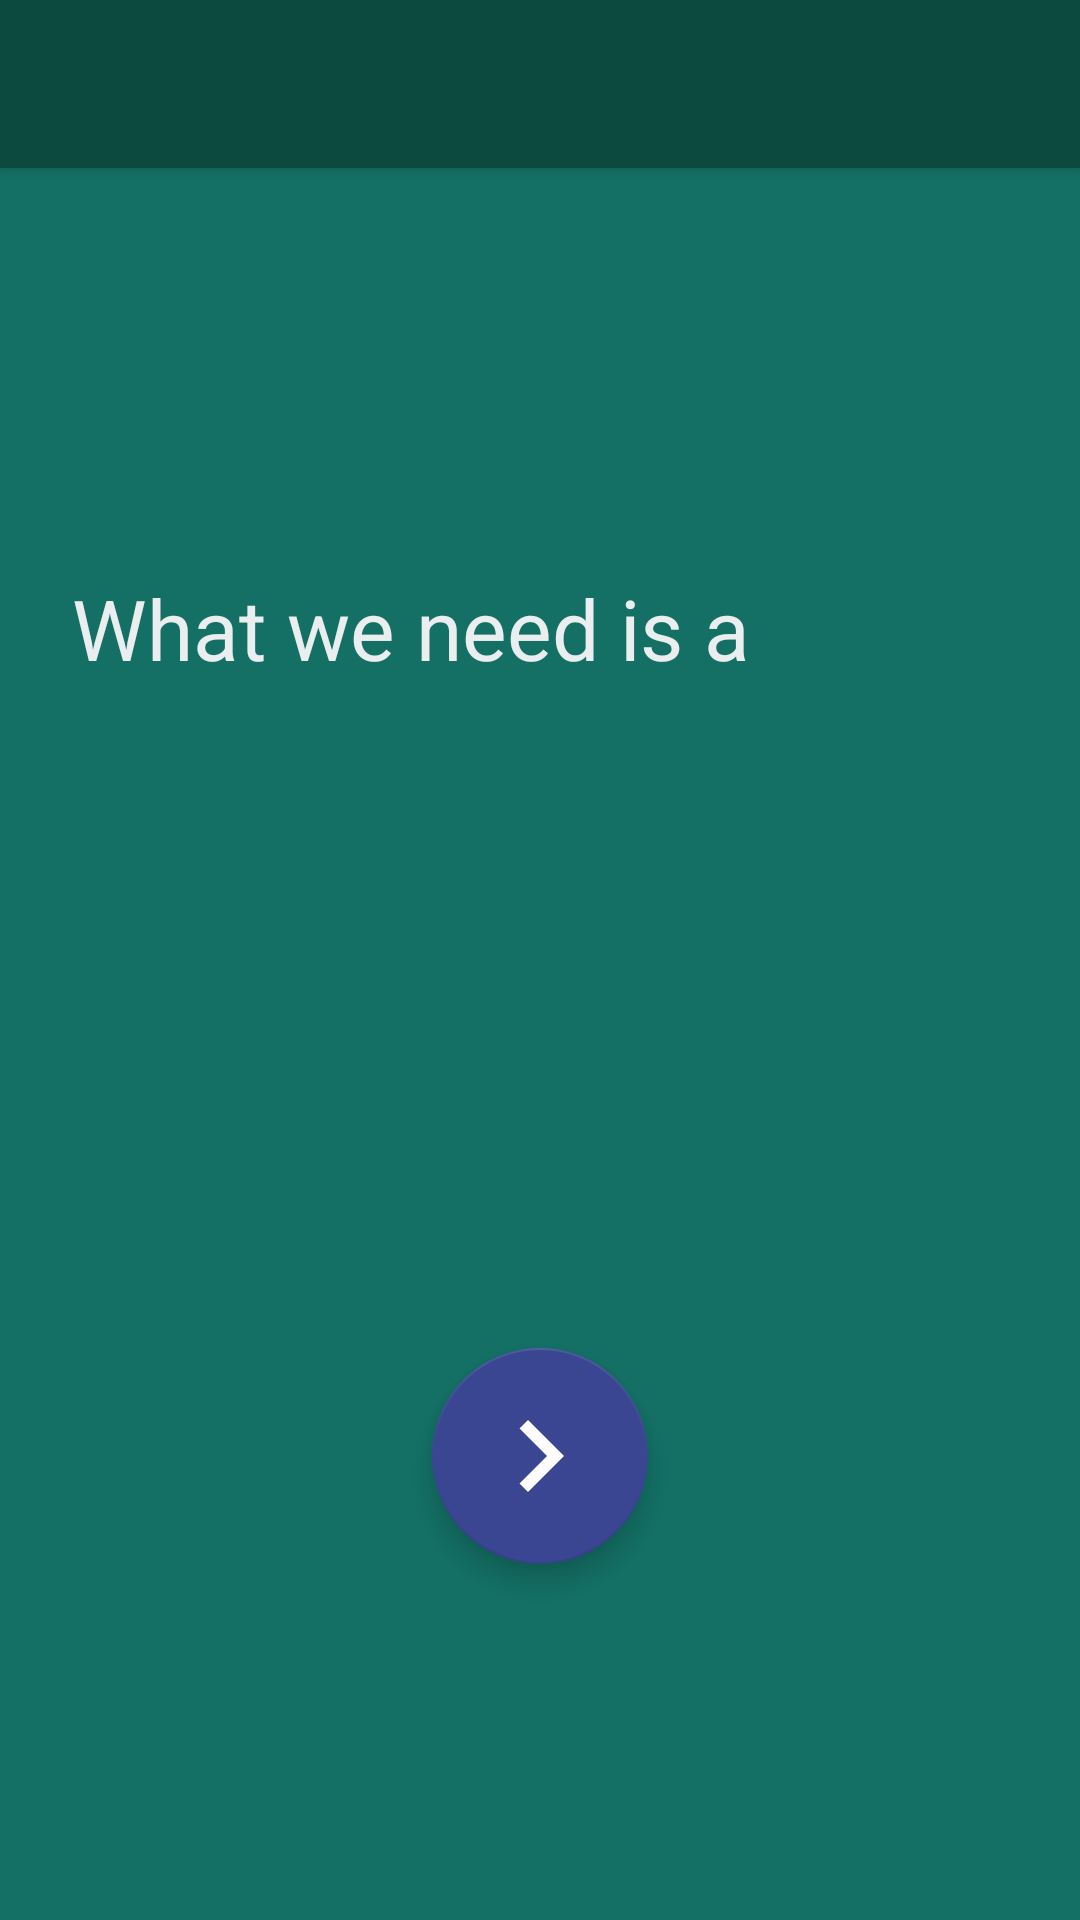

Icons on this 1080w x 1920h Android screen, each with its box as (x1,y1,x2,y2):
chevron right: (432,1348,648,1564)
